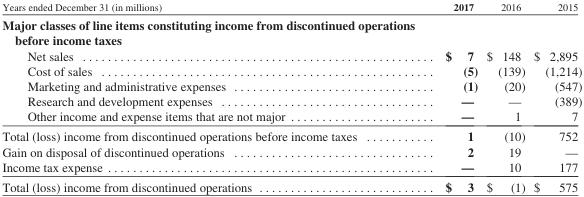table: (1, 0, 581, 193)
table column: (1, 0, 400, 193), (400, 0, 481, 193), (528, 0, 581, 193), (481, 0, 528, 193)
table column header: (1, 0, 581, 15)
table projected row header: (1, 15, 581, 47)
table row: (1, 15, 581, 47), (1, 125, 581, 143), (1, 158, 581, 176), (1, 108, 581, 125), (1, 176, 581, 193), (1, 92, 581, 108), (1, 0, 581, 15), (1, 47, 581, 62), (1, 62, 581, 77), (1, 77, 581, 92), (1, 143, 581, 158)
